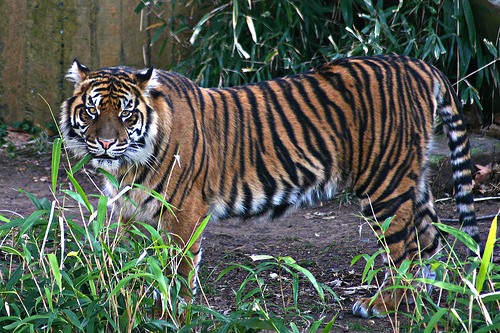Tigre: (55, 54, 435, 284)
